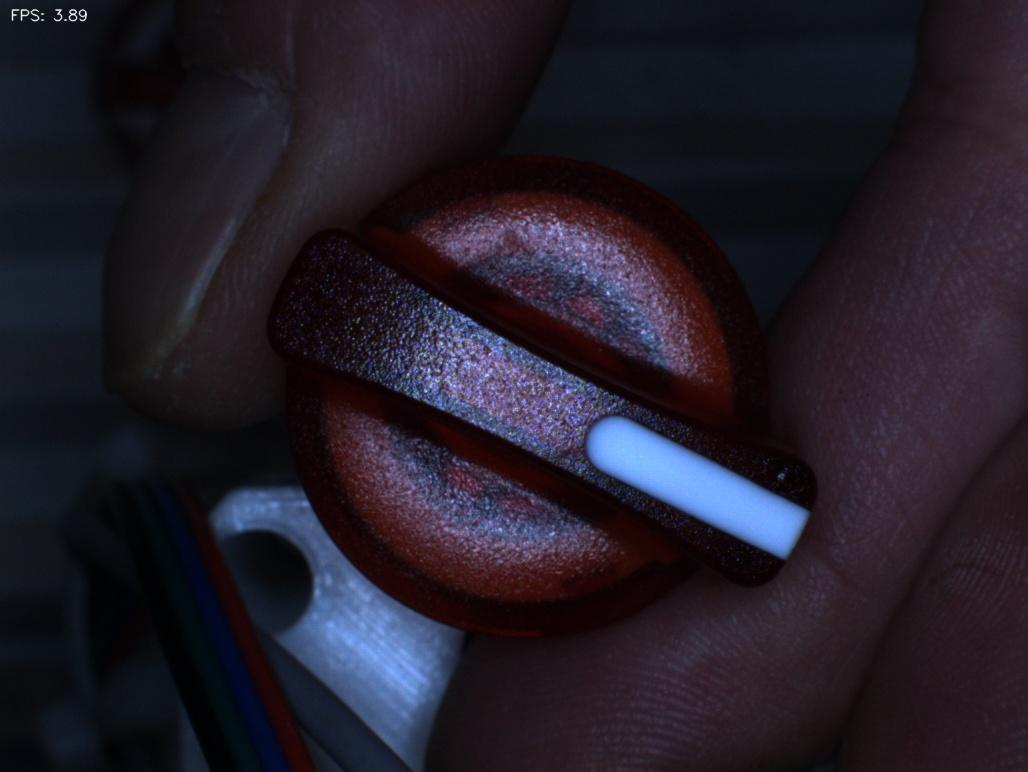Choc: (729, 416, 819, 506)
